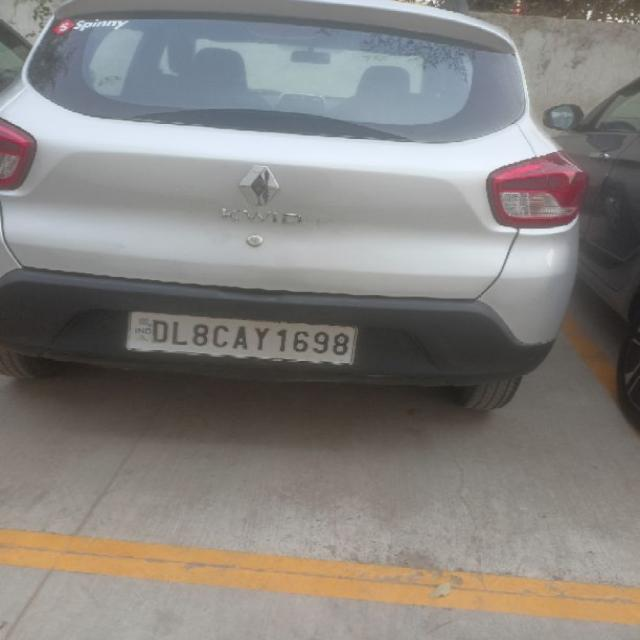license_plate: (124, 310, 358, 365)
